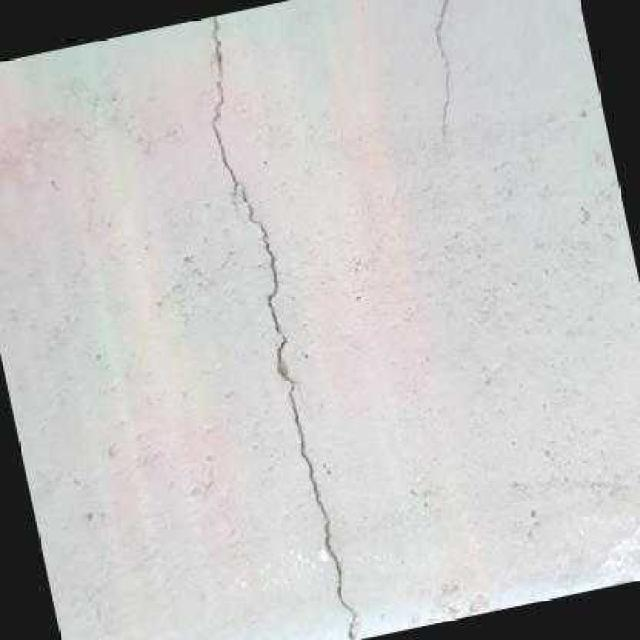D00: (211, 14, 356, 640)
